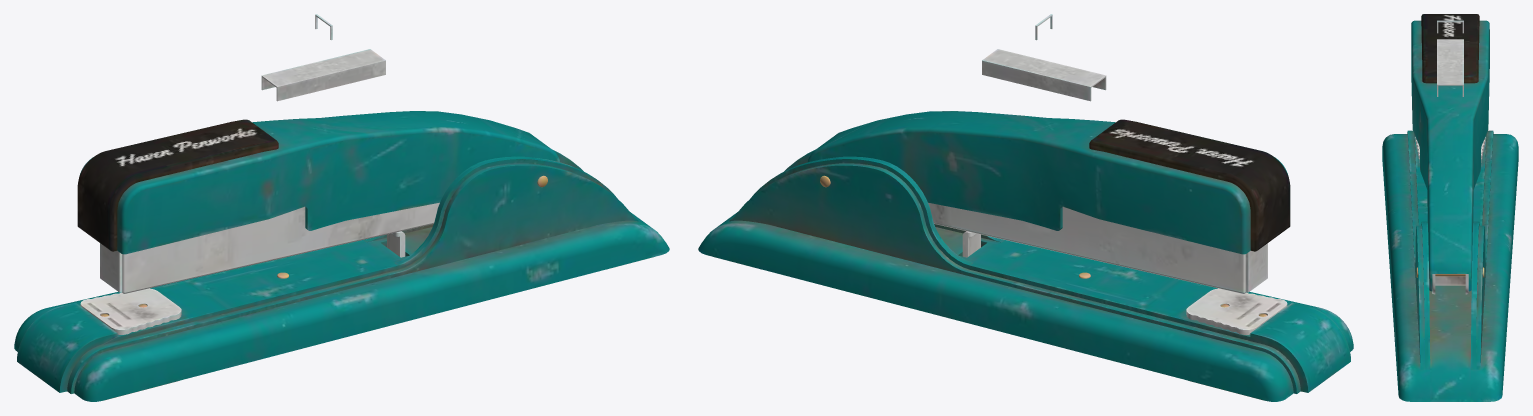
The model's file is vintage_stapler.glb.
3 renders of one model, left to right at view 1: azimuth 30°, elevation 25°; view 2: azimuth 150°, elevation 25°; view 3: azimuth 270°, elevation 25°, orthographic. The views are drawn at different scales.
Parts seen in each view (by area): view 1: vintage_stapler_base, vintage_stapler_top, vintage_stapler_staples; view 2: vintage_stapler_base, vintage_stapler_top, vintage_stapler_staples; view 3: vintage_stapler_base, vintage_stapler_top, vintage_stapler_staples.
Part boxes in pixels (bbox=[...]): vintage_stapler_base: bbox=[14, 149, 669, 401]; vintage_stapler_top: bbox=[77, 111, 560, 293]; vintage_stapler_staples: bbox=[261, 49, 385, 101]; vintage_stapler_base: bbox=[698, 149, 1353, 401]; vintage_stapler_top: bbox=[807, 111, 1290, 293]; vintage_stapler_staples: bbox=[982, 49, 1106, 101]; vintage_stapler_base: bbox=[1382, 130, 1518, 401]; vintage_stapler_top: bbox=[1411, 14, 1489, 294]; vintage_stapler_staples: bbox=[1437, 39, 1463, 96].
Bounding box in the file's own units: 0.2085 × 0.0953 × 0.0474.
Materials: 1 (1 with a texture image).
